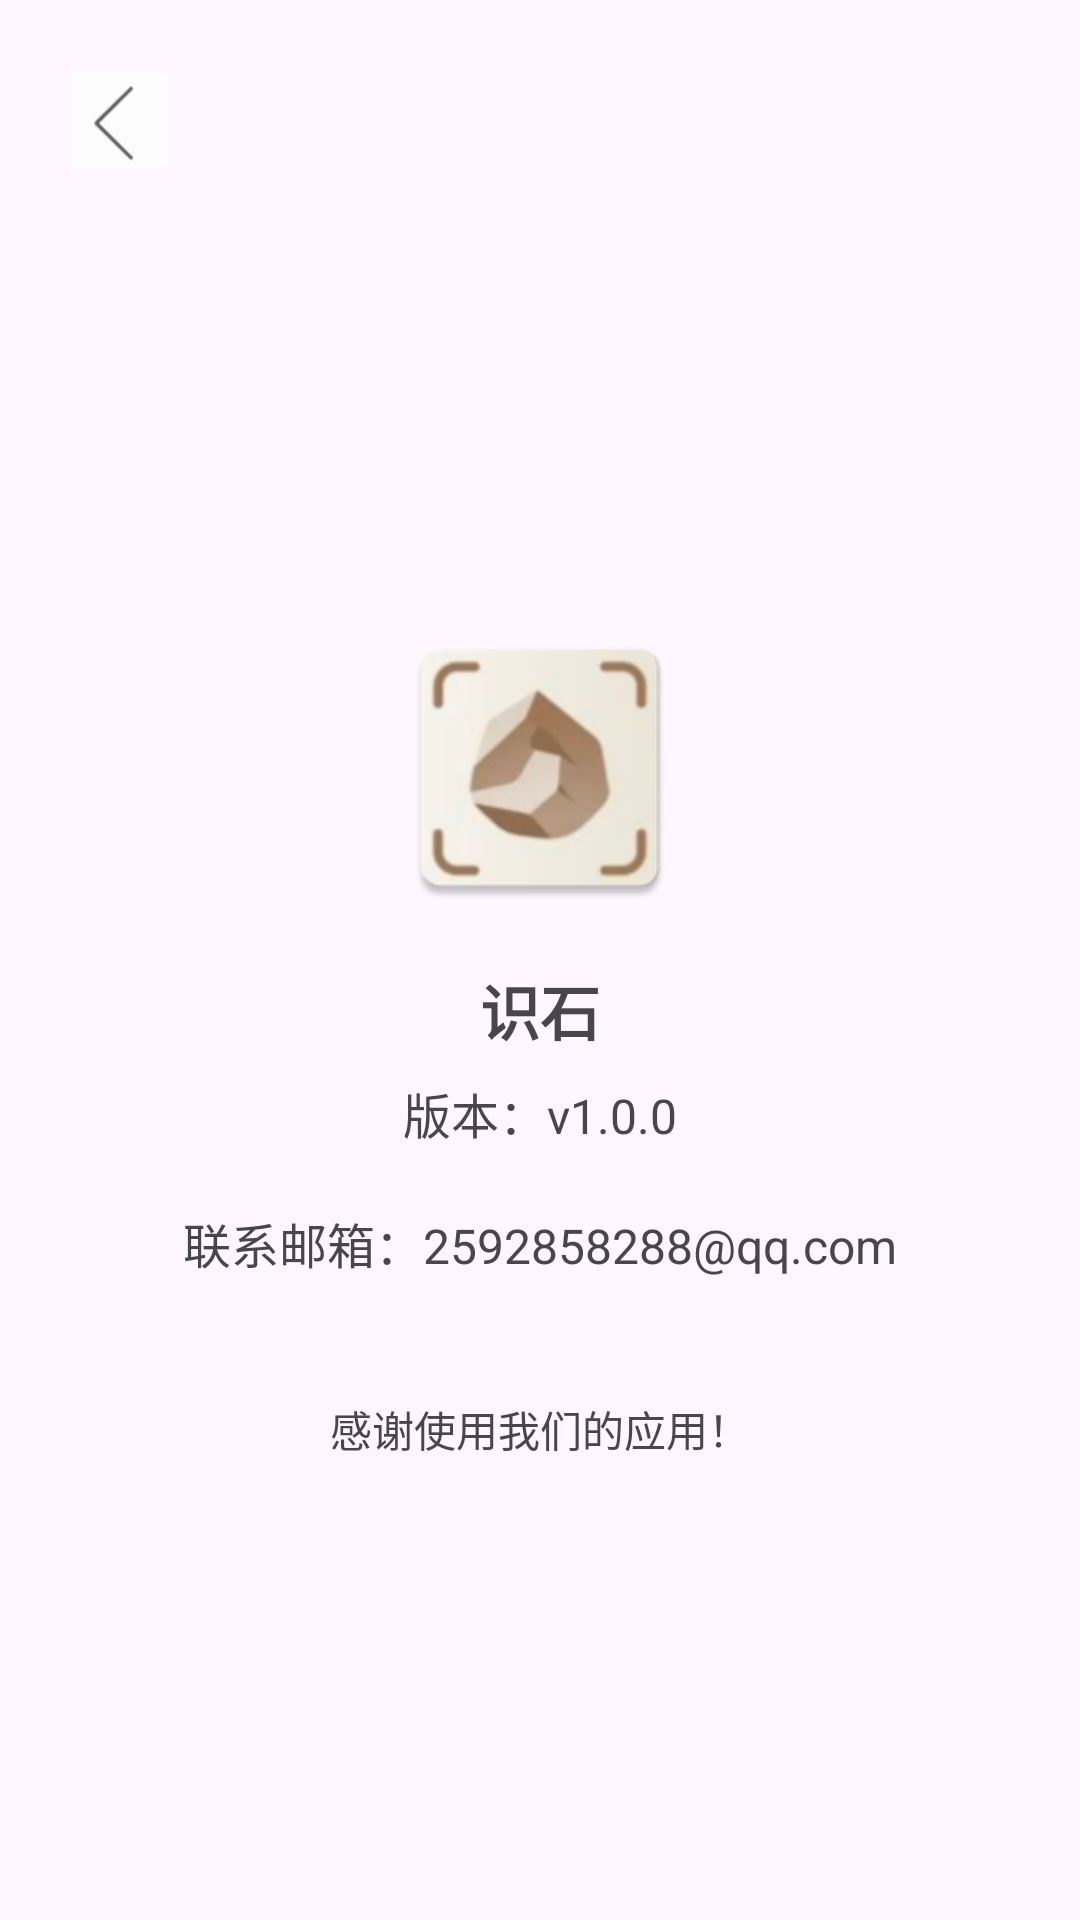

Named icons in this screenshot (1080px x 1920px) and their bounding boxes, (x1, y1, x2, y2):
返回: (94, 86, 133, 160)
